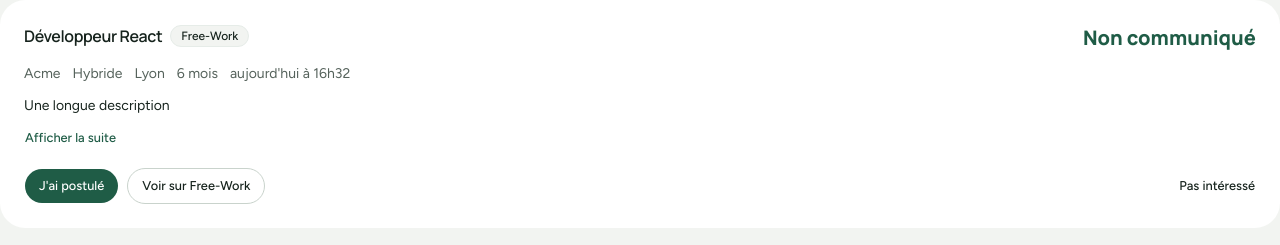
Scenario: OpportunityCard › expands and collapses the description
Click the button "Afficher la suite" at (70, 138), box [24,120,117,156]
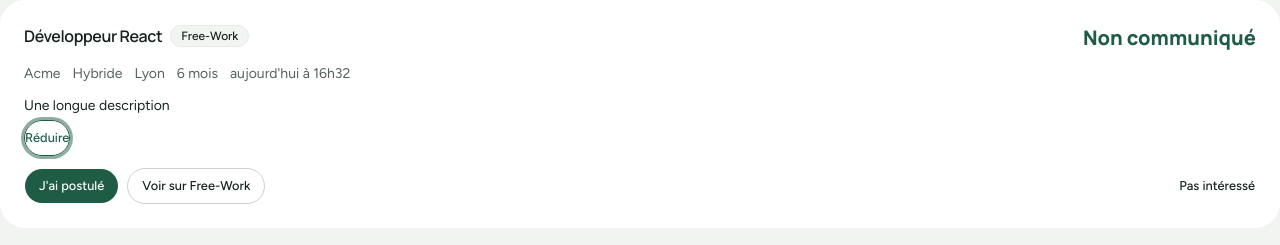
Result: the button "Réduire" is expanded at [24,120,70,156]
